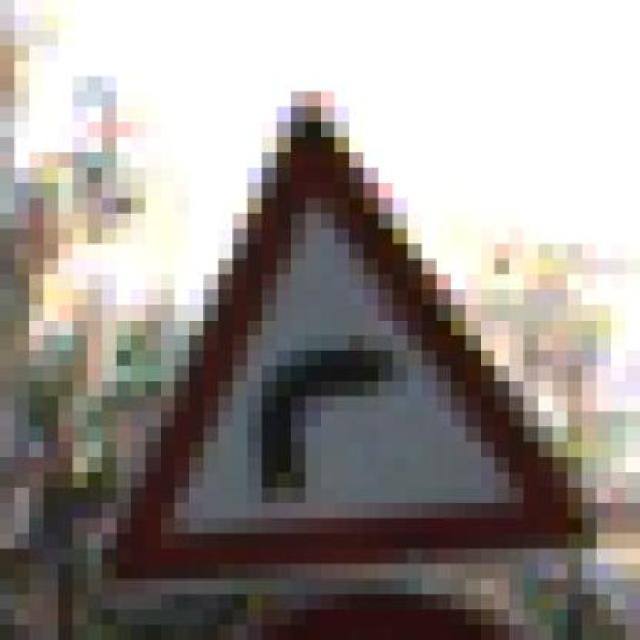Dangerous Rright Curve Ahead: (102, 92, 626, 610)
